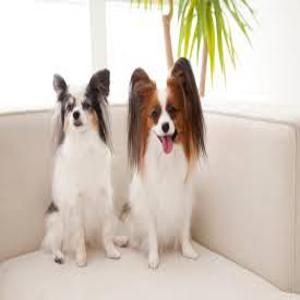yell: (41, 68, 129, 265)
